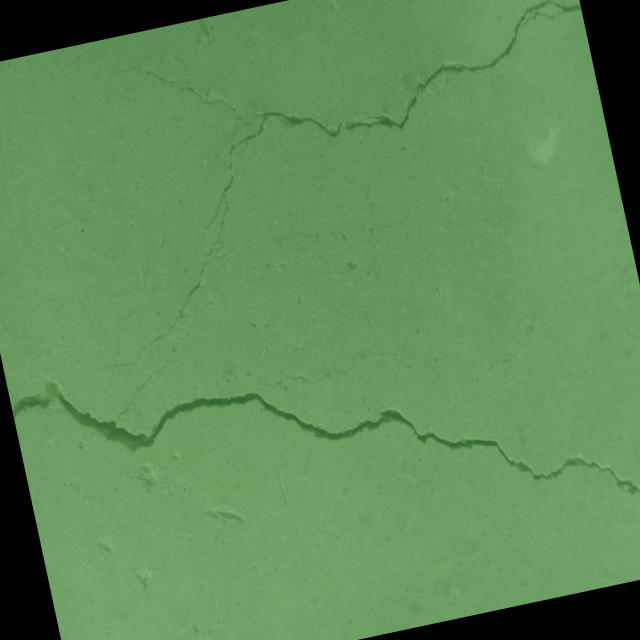crack: (5, 245, 640, 627), (55, 26, 382, 370), (327, 0, 598, 143)
